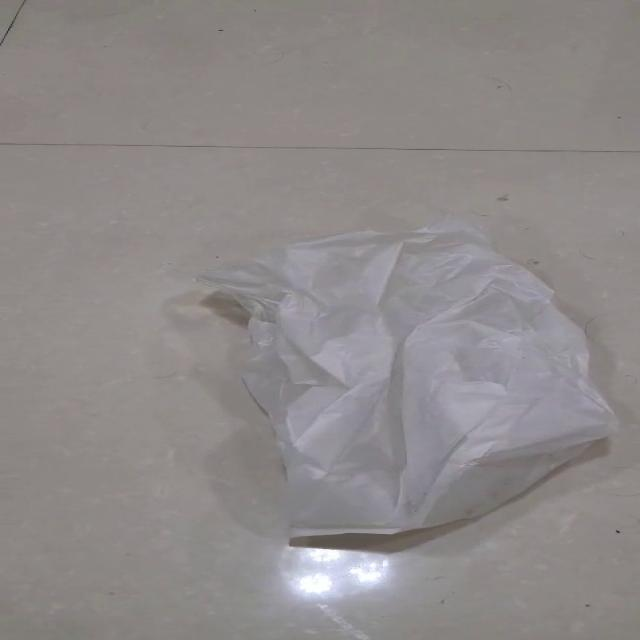plastic: (192, 214, 618, 542)
